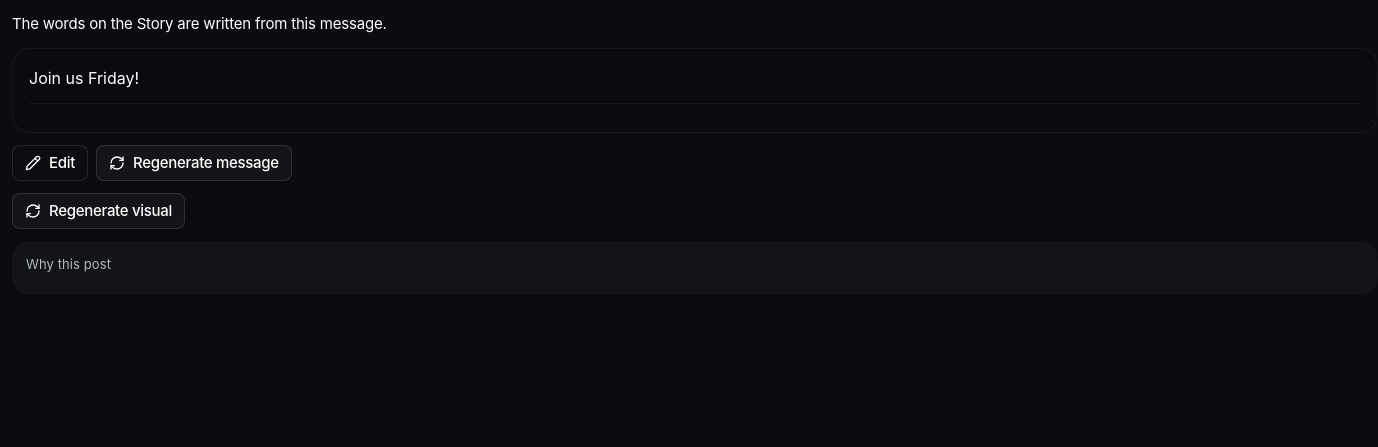
it: the Copy tab's Regenerate › says a note about this post alone was used for it only, with no Undo
Click the button "Regenerate message".
click(194, 163)  # box x1=96 y1=145 x2=292 y2=181
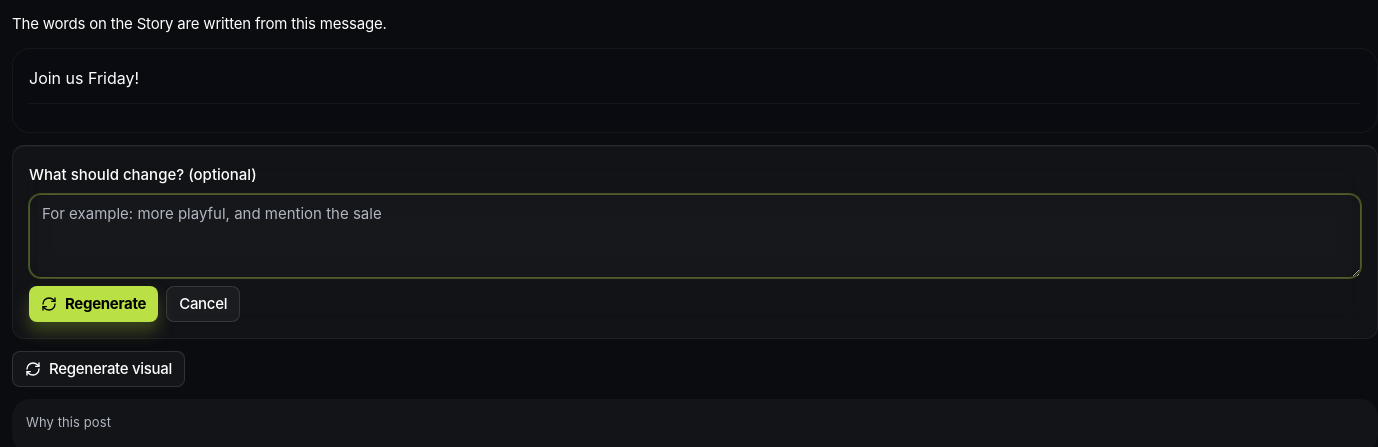
Type "Mention the Friday sale" into the text box labelled "What should change? (optional)".
click(695, 236); type("Mention the Friday sale")  # box x1=29 y1=194 x2=1361 y2=278
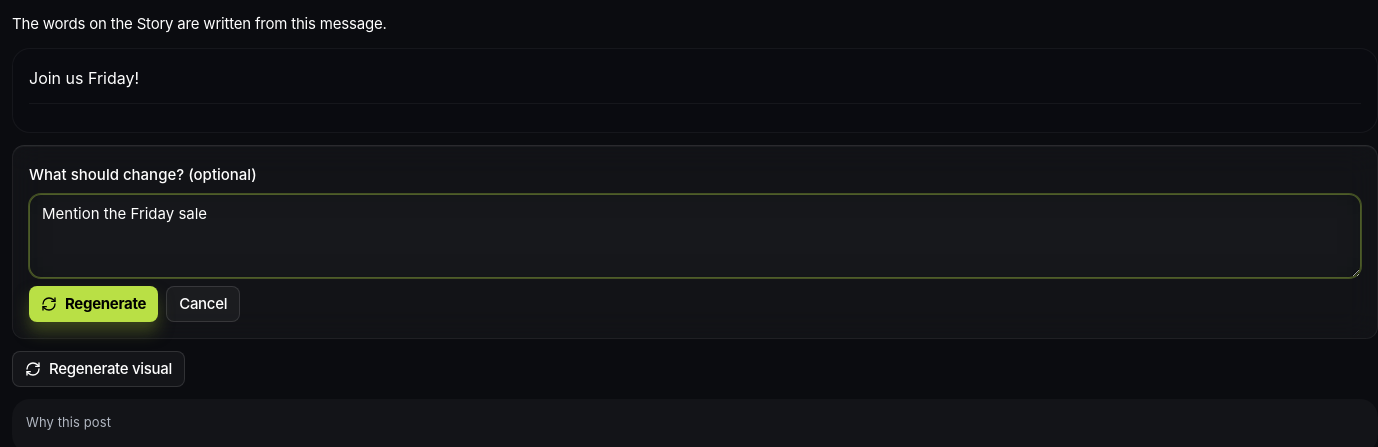
Click the button "Regenerate".
click(94, 304)  # box x1=29 y1=286 x2=158 y2=322
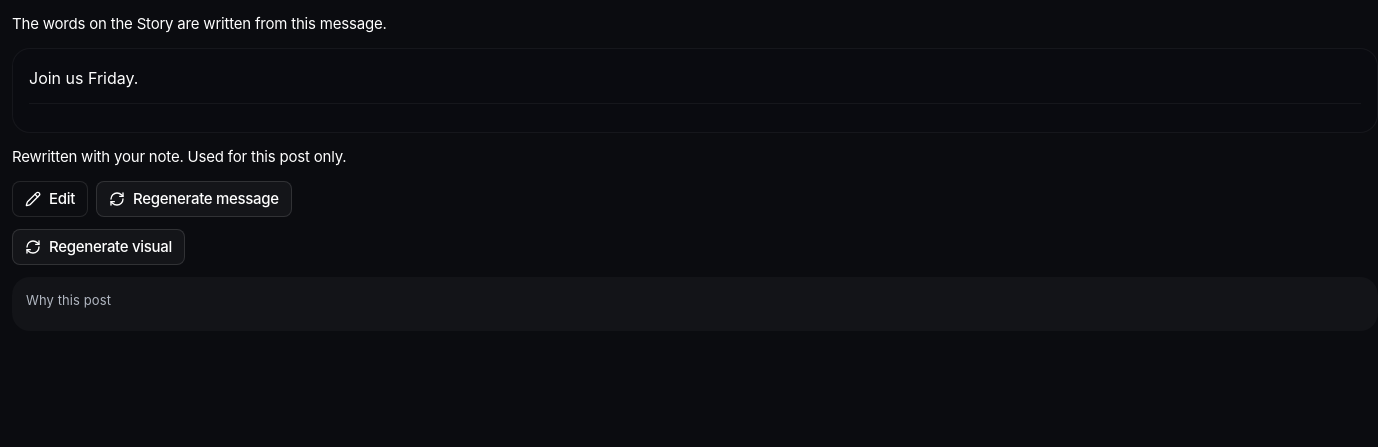
Now the text "Rewritten with your note. Used for this post only." is shown, box x1=12 y1=147 x2=346 y2=166
